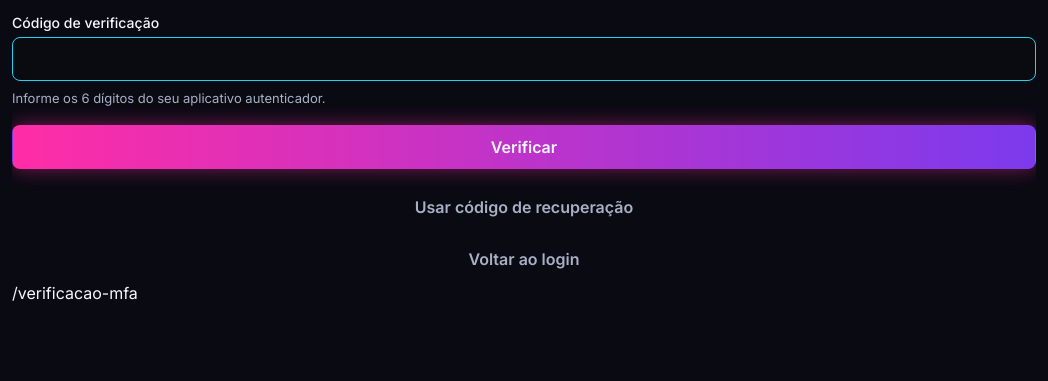
Test: MfaForm (AUTH-004) › CA-019: codigo invalido mostra erro e permite nova tentativa
Type "000000" into the field labelled "Código de verificação". click: (524, 59)
box: [12,37,1036,81]
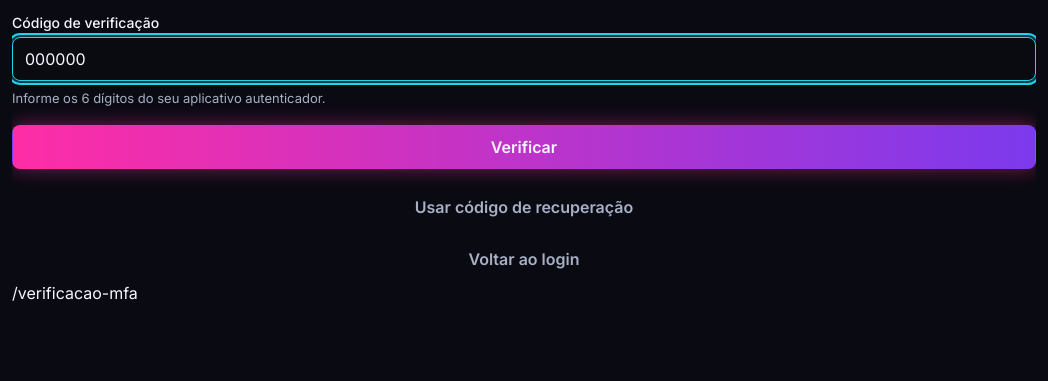
Click the button "Verificar". click: (524, 146)
box: [12,124,1036,168]
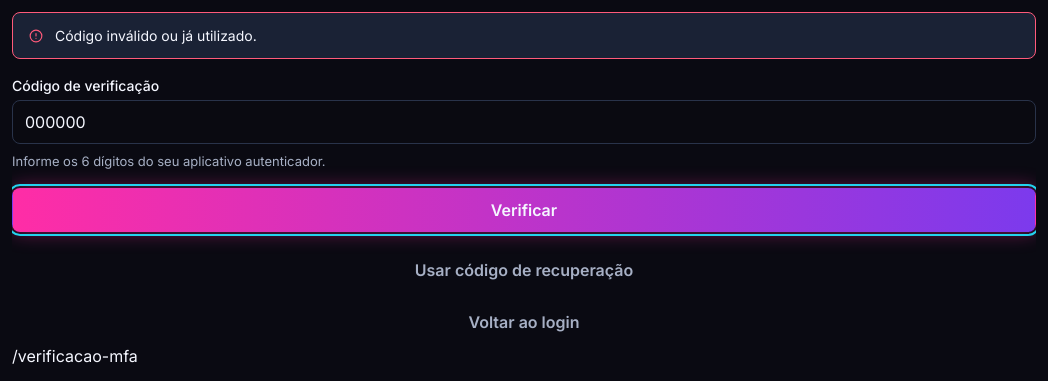
Check: the button "Verificar" is enabled, box [12,188,1036,232]
Check: the message reads "Código inválido ou já utilizado.", box [55,27,257,44]
